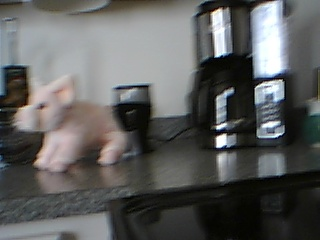piggy: (12, 74, 129, 174)
